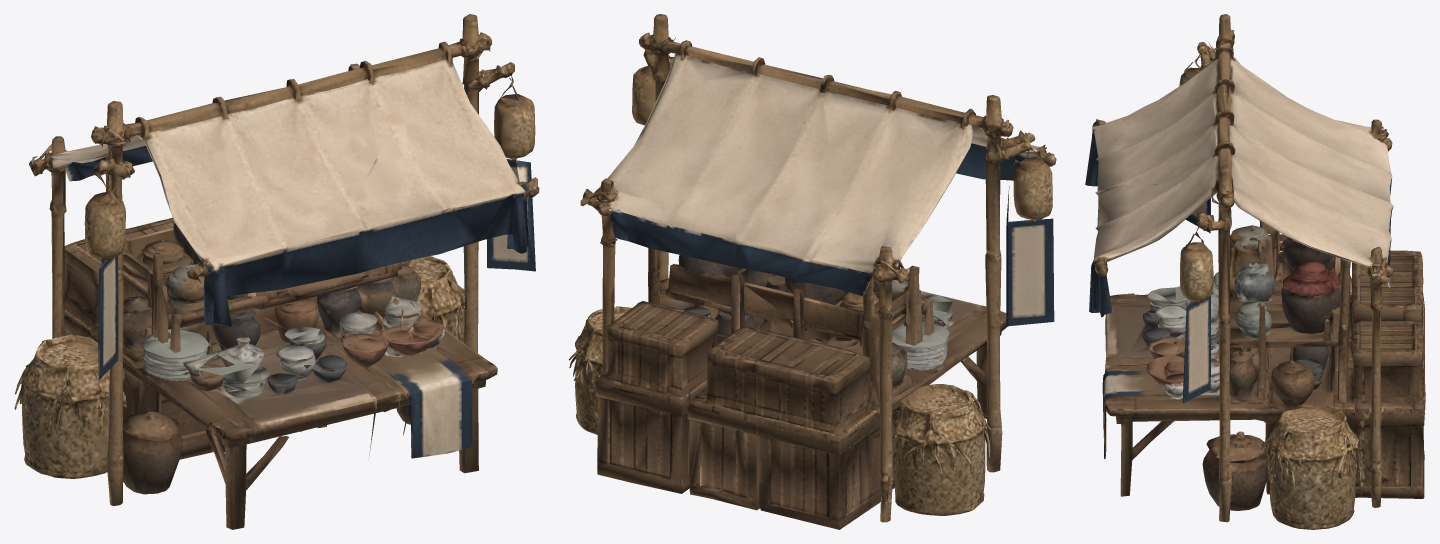
File: 09_Pottery_Ceramics_Stall_LOD1.fbx
The picture shows the model from 3 angles, left to right: view 1: azimuth 30°, elevation 25°; view 2: azimuth 150°, elevation 25°; view 3: azimuth 270°, elevation 25°; orthographic projection. The views are drawn at different scales.
Parts seen in each view (by area): view 1: 09_Pottery_Ceramics_Stall_L1; view 2: 09_Pottery_Ceramics_Stall_L1; view 3: 09_Pottery_Ceramics_Stall_L1.
Part boxes in pixels (x1,y1,x2,y2): 09_Pottery_Ceramics_Stall_L1: [14, 14, 539, 529]; 09_Pottery_Ceramics_Stall_L1: [569, 14, 1056, 529]; 09_Pottery_Ceramics_Stall_L1: [1085, 14, 1425, 529].
Size of the model in its own units: 2.91 by 2.5 by 2.2.
